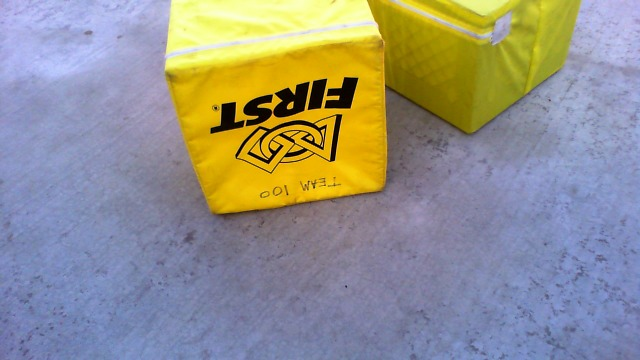cube: (162, 1, 387, 226), (363, 1, 582, 137)
